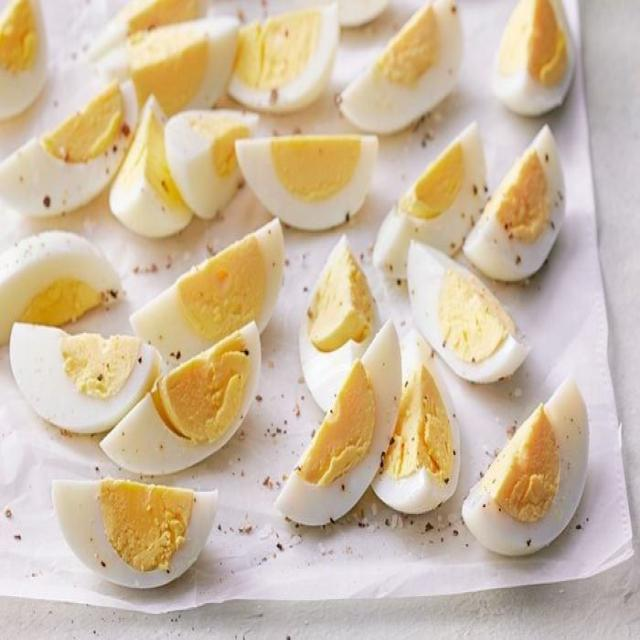eggs: (1, 10, 623, 554)
